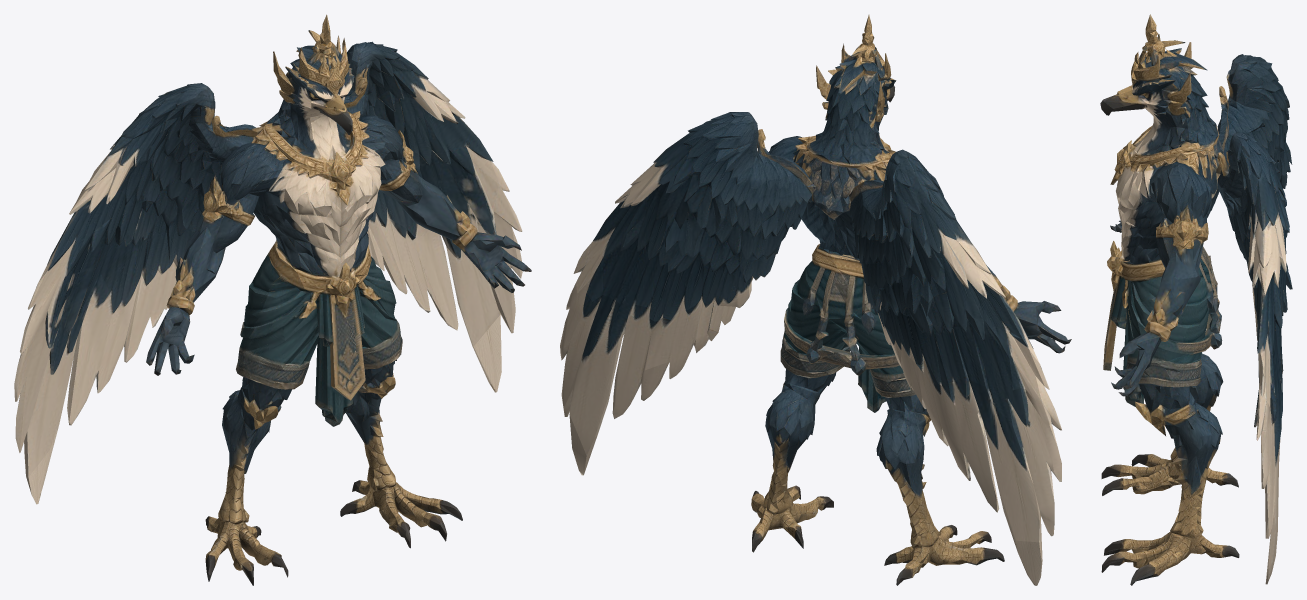
Rendered from himmapan_3.glb.
3 renders of one model, left to right at view 1: azimuth 30°, elevation 25°; view 2: azimuth 150°, elevation 25°; view 3: azimuth 270°, elevation 25°, orthographic. The views are drawn at different scales.
Size of the model in its own units: 1.9 by 1.9 by 0.6441.
1 material, 1 textured.
